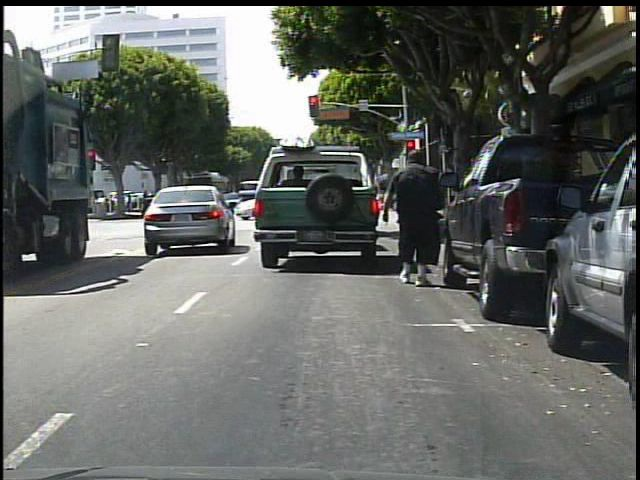person: (389, 149, 446, 287)
